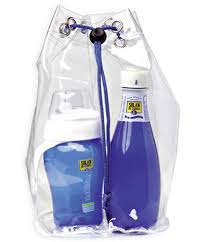solan de cabras: (108, 72, 160, 237)
